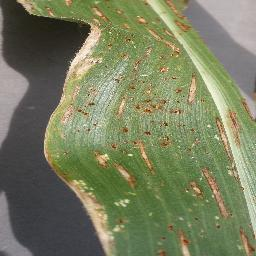Gray_Leaf_Spot: (25, 69, 201, 128), (104, 0, 198, 78), (50, 22, 105, 91), (65, 177, 113, 256), (9, 0, 121, 22), (207, 108, 253, 160), (186, 165, 232, 216), (92, 142, 135, 188), (31, 127, 65, 179), (119, 128, 150, 171), (99, 192, 130, 231), (139, 156, 172, 187), (164, 221, 193, 256), (147, 119, 179, 149), (176, 119, 198, 156), (231, 86, 256, 115), (232, 225, 256, 253), (206, 216, 224, 228), (153, 245, 168, 256)
